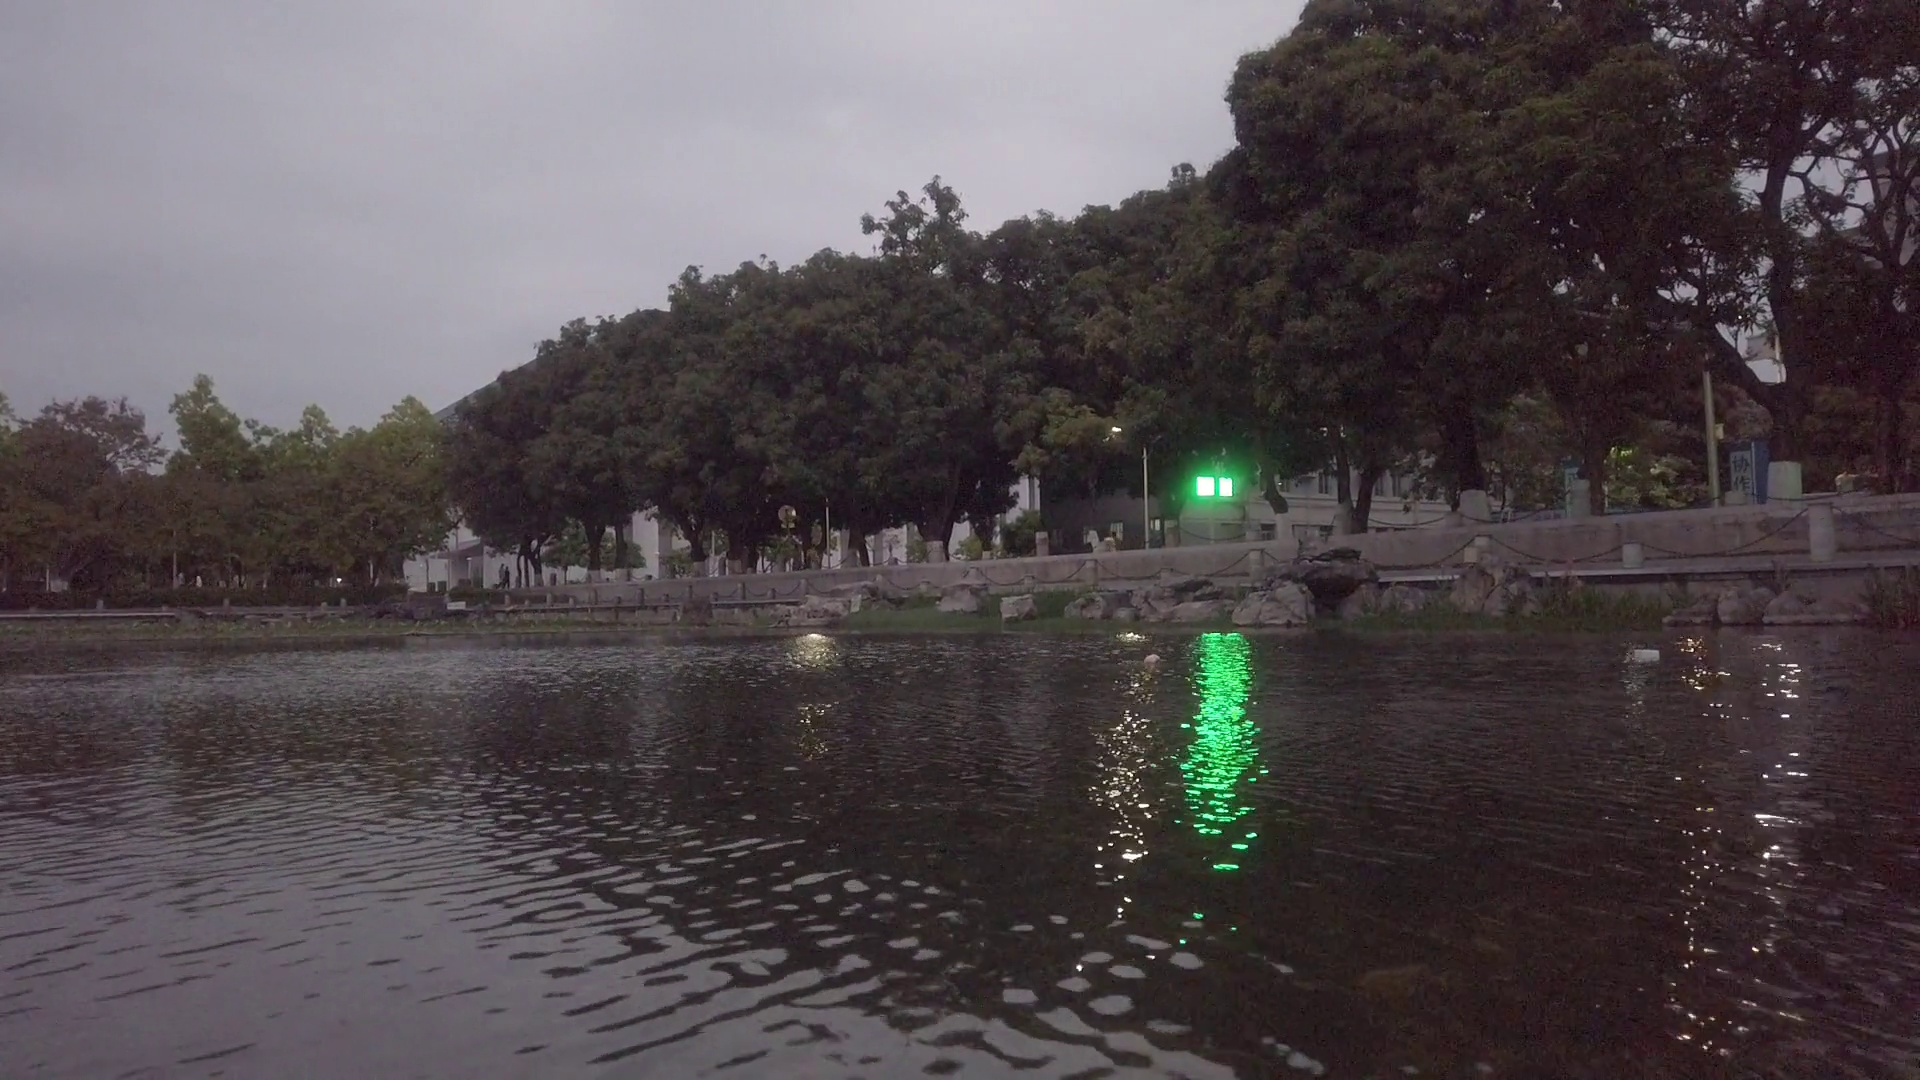bottle: (1145, 651, 1159, 669)
carton: (1631, 647, 1662, 662)
